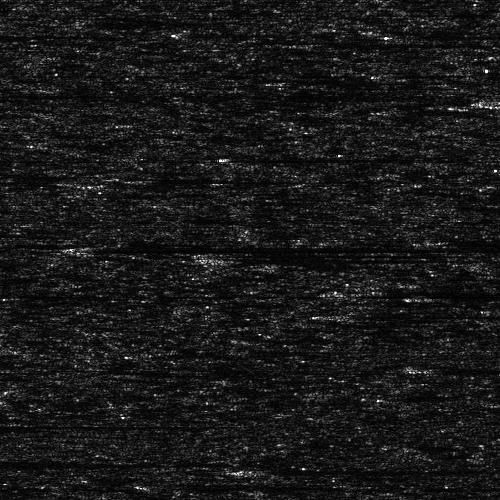rock: (266, 305, 381, 322), (169, 150, 262, 161), (440, 97, 500, 106), (455, 256, 500, 267), (146, 348, 199, 357), (368, 364, 431, 371), (129, 481, 182, 488), (54, 244, 127, 249), (179, 256, 242, 261), (412, 237, 453, 244), (124, 178, 155, 181), (238, 469, 269, 472), (341, 289, 362, 292)
shadow: (324, 305, 500, 322), (216, 150, 441, 161), (91, 244, 500, 249), (173, 348, 326, 357), (0, 459, 173, 466), (211, 256, 439, 261), (156, 481, 307, 488), (0, 423, 196, 428), (400, 364, 500, 371), (254, 469, 487, 472), (433, 237, 500, 244), (140, 178, 289, 181), (352, 289, 500, 292), (0, 204, 48, 209), (0, 310, 32, 313)
